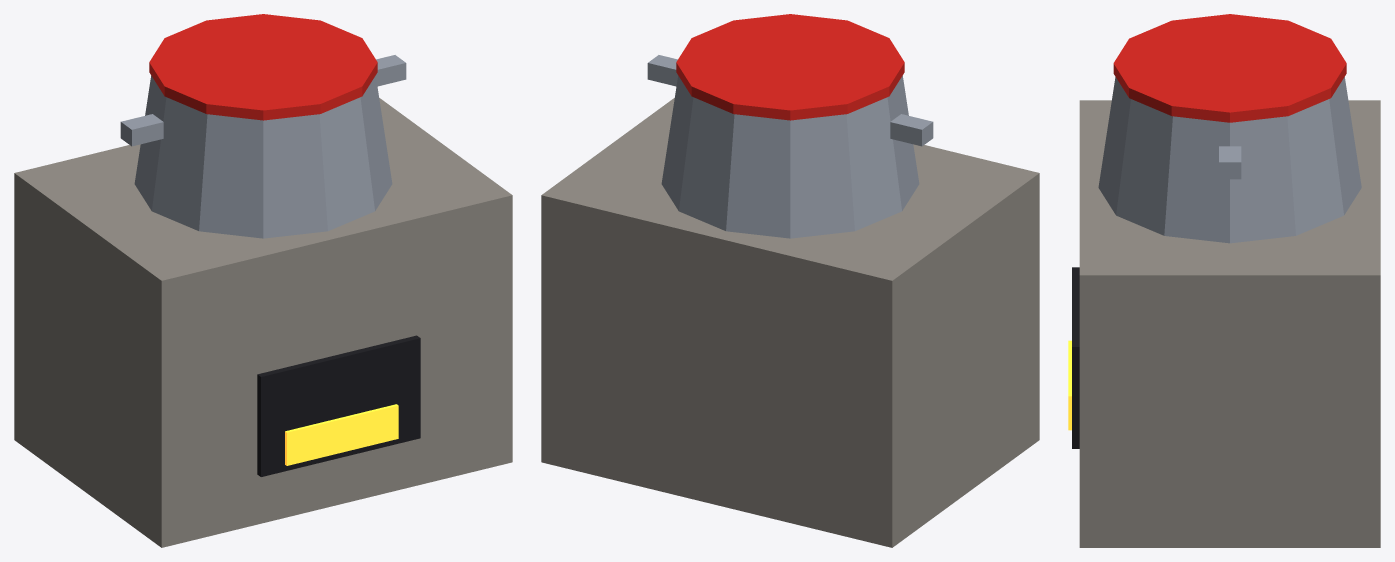
File: machine_stove.glb
The picture shows the model from 3 angles, left to right: view 1: azimuth 30°, elevation 25°; view 2: azimuth 150°, elevation 25°; view 3: azimuth 270°, elevation 25°; orthographic projection. The views are drawn at different scales.
Visible parts, largest first — view 1: machine_stove; view 2: machine_stove; view 3: machine_stove.
Part boxes in pixels (x1,y1,x2,y2): machine_stove: [14, 14, 512, 547]; machine_stove: [541, 14, 1039, 547]; machine_stove: [1068, 14, 1380, 547].
Size of the model in its own units: 1.1 by 1.16 by 0.83.
